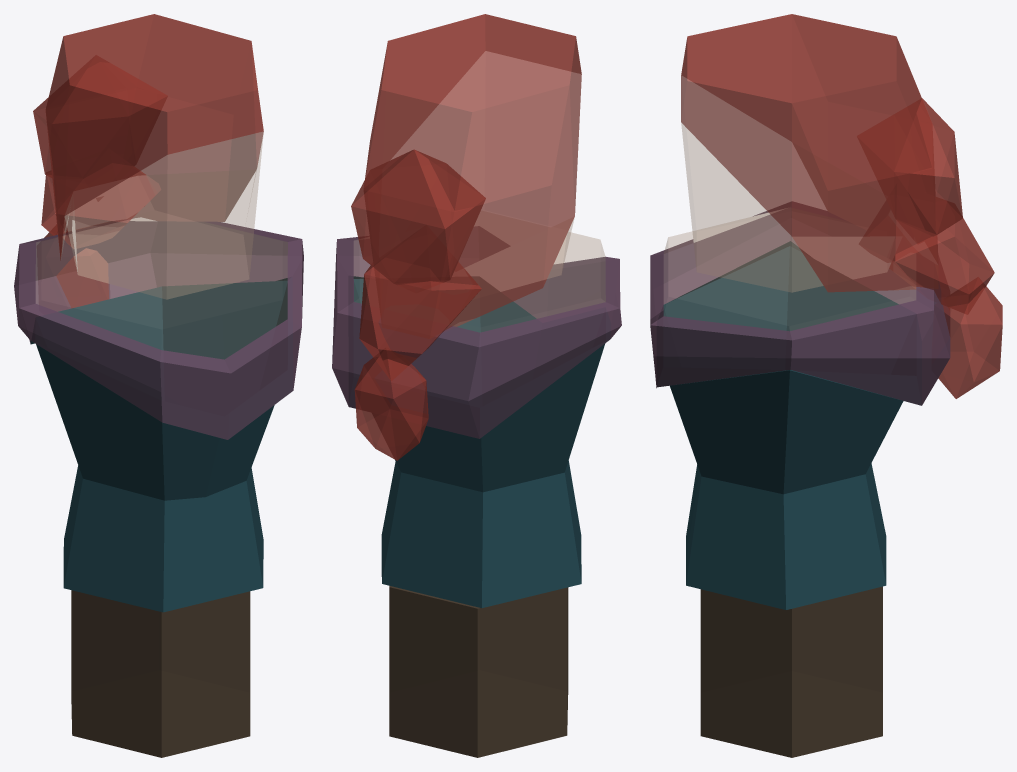
The model's file is Person3Fix.fbx.
3 views of the same model, side by side, from view 1: azimuth 30°, elevation 25°; view 2: azimuth 150°, elevation 25°; view 3: azimuth 270°, elevation 25° (orthographic).
Parts seen in each view (by area): view 1: Person3; view 2: Person3; view 3: Person3.
Boxes of the visible parts, x1,y1,x2,y2 form: Person3: [14, 14, 303, 757]; Person3: [332, 14, 621, 757]; Person3: [650, 14, 1002, 757].
Bounding box in the file's own units: 42.72 × 92.95 × 45.29.
